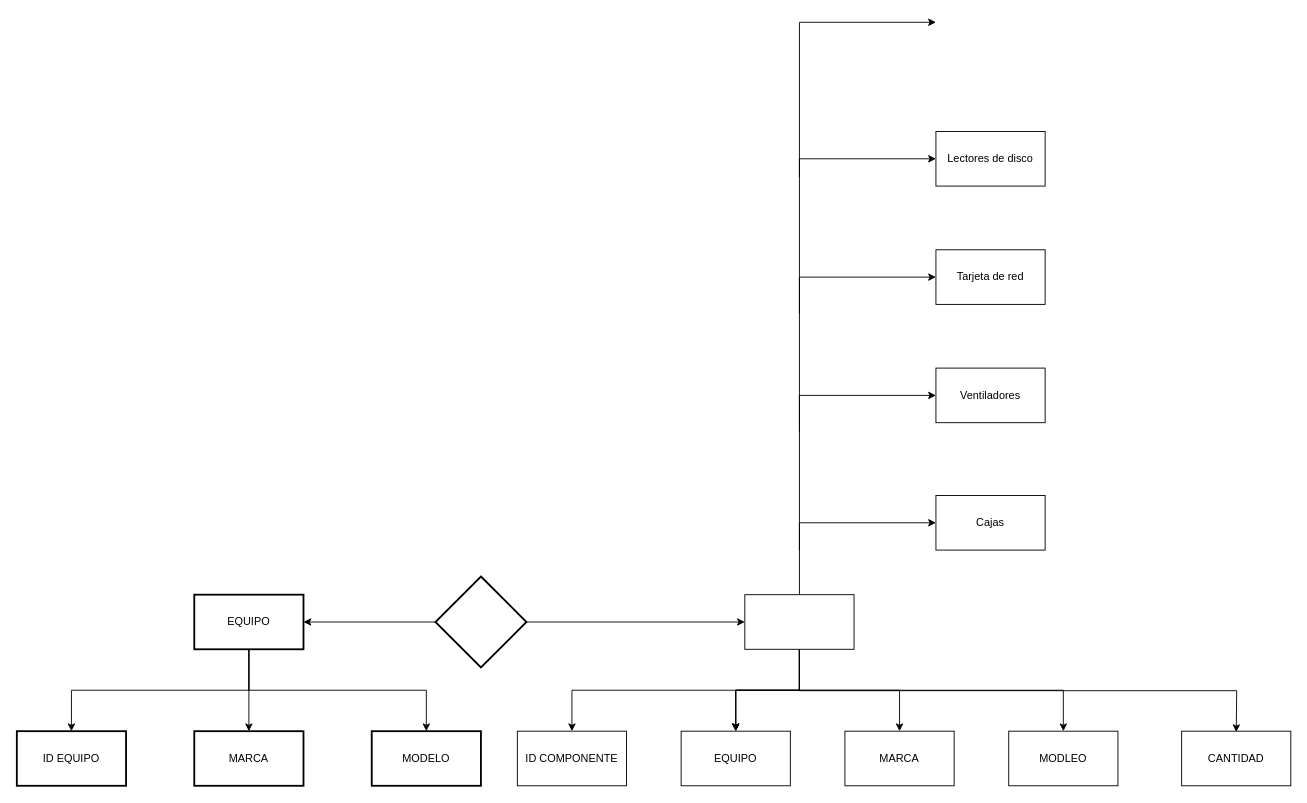
This 1307x803 diagram has some shape labels left out. Here are the shapes that lost their labels. From the top down, the centre of each, then its label:
point 480,621: CONTIENE
point 799,621: COMPONENTES
